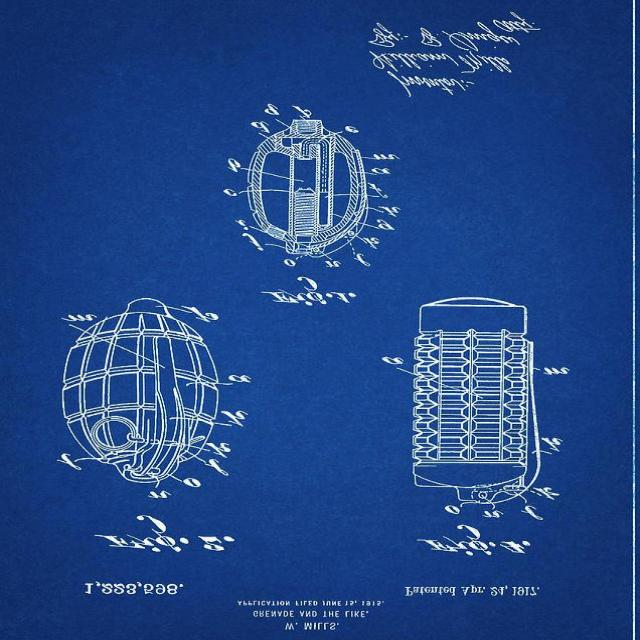grenade: (62, 300, 220, 485), (414, 299, 541, 505), (252, 120, 368, 258)
